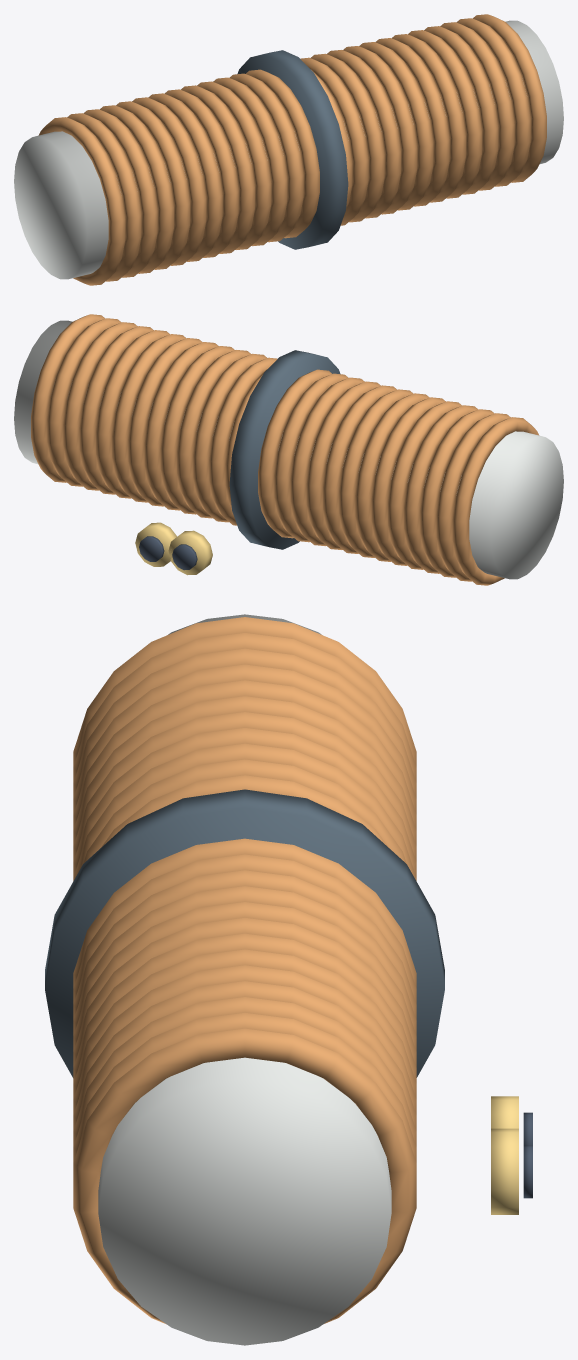
File: L84_26_MagneticTorqueRodX_Fitted.fbx
3 renders of one model, top to bottom at view 1: azimuth 30°, elevation 25°; view 2: azimuth 150°, elevation 25°; view 3: azimuth 270°, elevation 25°, orthographic. The views are drawn at different scales.
Visible parts, largest first — view 1: L84_MagneticTorqueRodX_Static__tintCC6629, L84_MagneticTorqueRodX_Static__tintCCD4CF, L84_MagneticTorqueRodX_Static__tint1C2933; view 2: L84_MagneticTorqueRodX_Static__tintCC6629, L84_MagneticTorqueRodX_Static__tintCCD4CF, L84_MagneticTorqueRodX_Static__tint1C2933, L84_MagneticTorqueRodX_Static__tintF2B547, L84_MagneticTorqueRodX_Static__tint131B26; view 3: L84_MagneticTorqueRodX_Static__tintCC6629, L84_MagneticTorqueRodX_Static__tintCCD4CF, L84_MagneticTorqueRodX_Static__tint1C2933, L84_MagneticTorqueRodX_Static__tintF2B547.
Part boxes in pixels (box(x1,y1,x2,y2)): L84_MagneticTorqueRodX_Static__tintCC6629: box(38, 14, 546, 285); L84_MagneticTorqueRodX_Static__tintCCD4CF: box(14, 20, 563, 279); L84_MagneticTorqueRodX_Static__tint1C2933: box(237, 50, 348, 249); L84_MagneticTorqueRodX_Static__tintCC6629: box(31, 314, 539, 585); L84_MagneticTorqueRodX_Static__tintCCD4CF: box(14, 320, 563, 579); L84_MagneticTorqueRodX_Static__tint1C2933: box(229, 350, 340, 549); L84_MagneticTorqueRodX_Static__tintF2B547: box(135, 522, 212, 575); L84_MagneticTorqueRodX_Static__tint131B26: box(139, 536, 197, 570); L84_MagneticTorqueRodX_Static__tintCC6629: box(73, 617, 416, 1324); L84_MagneticTorqueRodX_Static__tintCCD4CF: box(98, 614, 391, 1345); L84_MagneticTorqueRodX_Static__tint1C2933: box(45, 789, 444, 1077); L84_MagneticTorqueRodX_Static__tintF2B547: box(491, 1096, 518, 1214).
Size of the model in its own units: 15.84 by 5.76 by 7.03.
